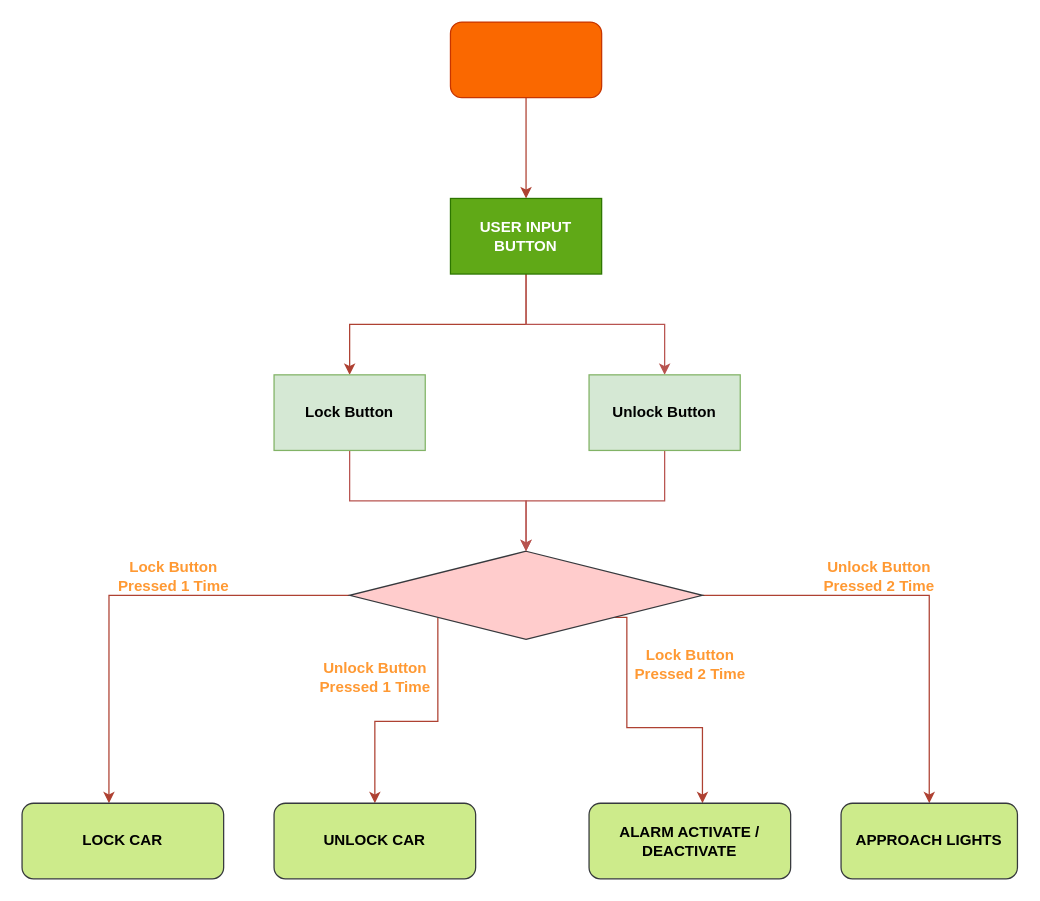
This 1040x901 diagram has some shape labels left out. Each missing label, with the box of its shape:
NO OF TIMES BUTTON PRESSED: (348, 550, 702, 639)
START: (449, 21, 602, 98)
